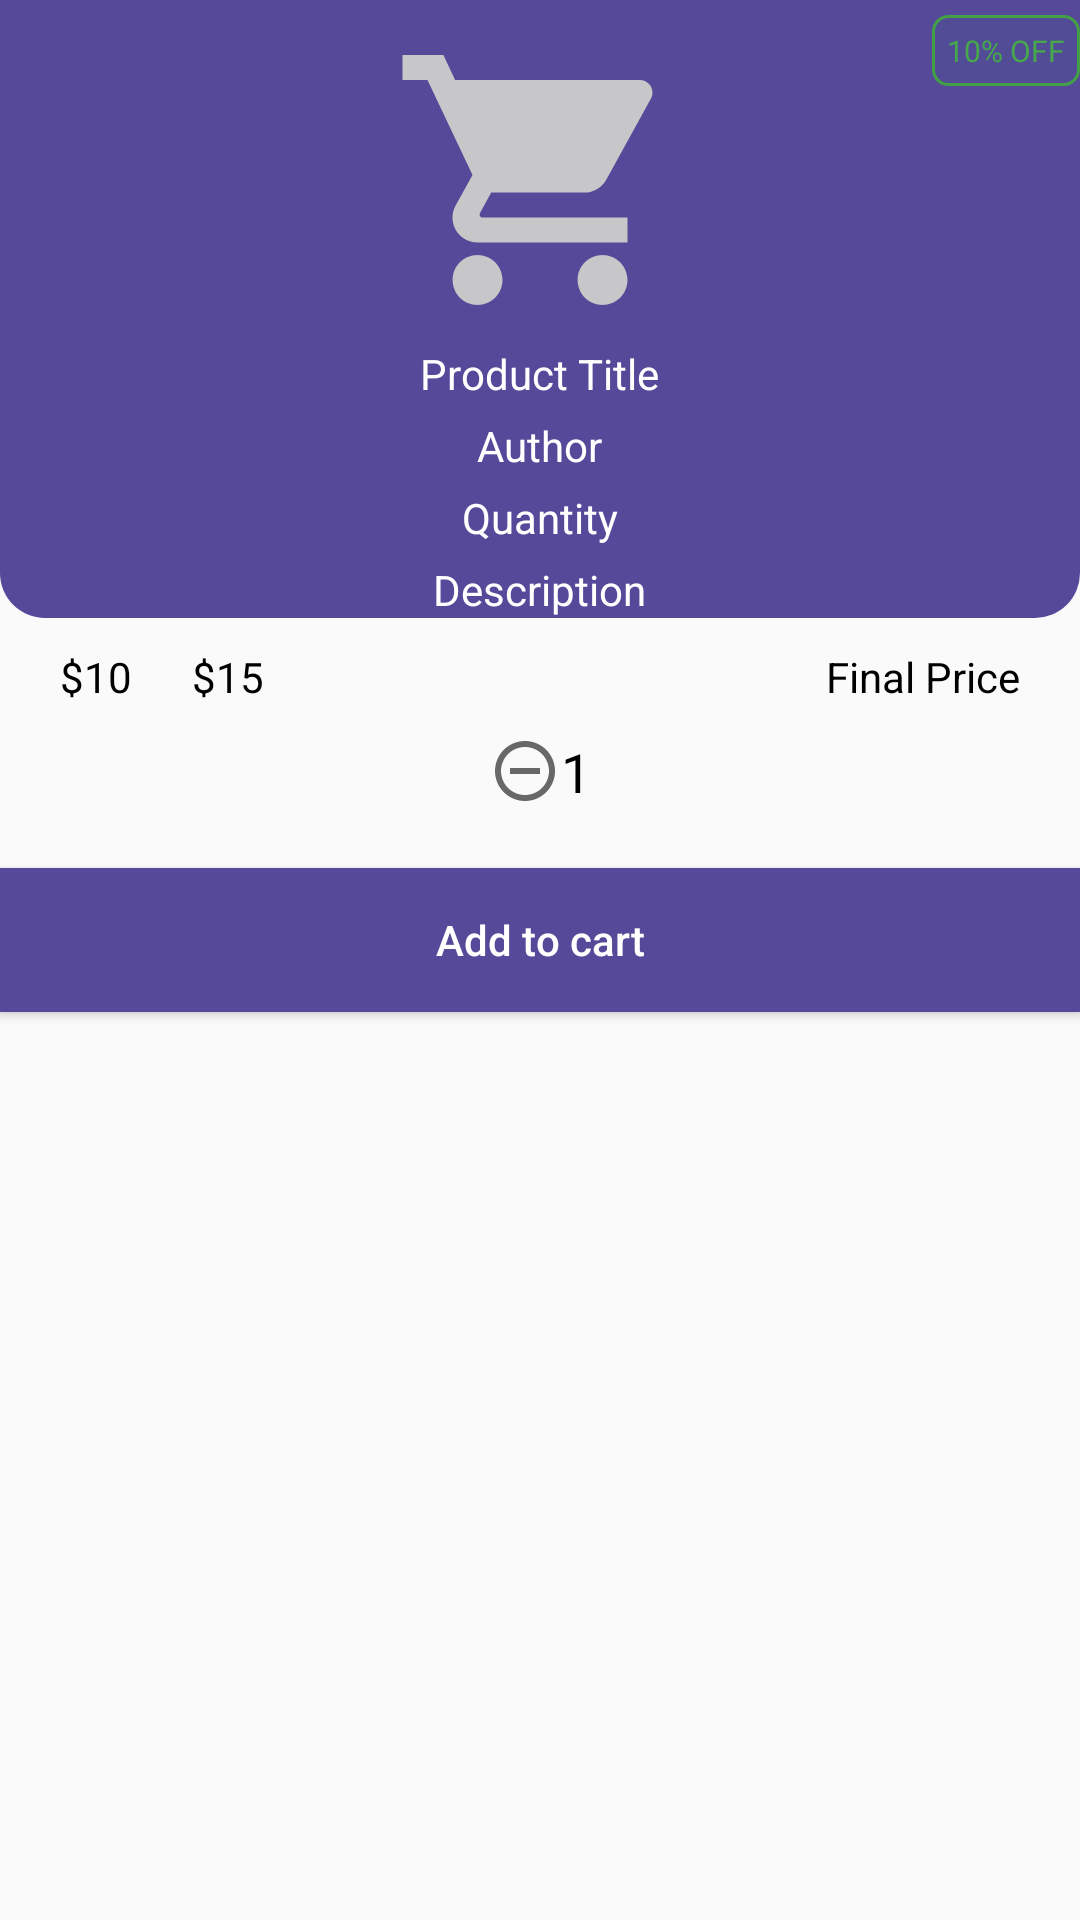

Icon bounding boxes for this 1080×1920 phone screenshot, format {"x1": x1, "y1": y1, "x2": x2, "y2": y2}:
cart: {"x1": 402, "y1": 55, "x2": 653, "y2": 305}
remove circle: {"x1": 495, "y1": 741, "x2": 555, "y2": 801}
